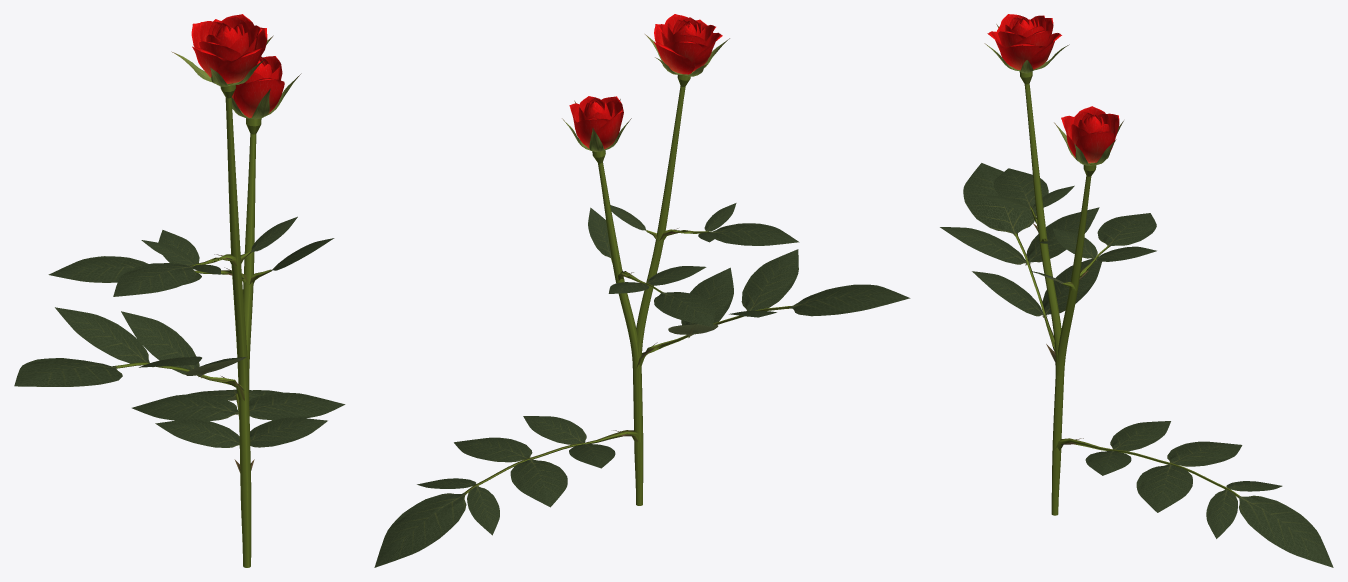
File: Rose.obj
3 renders of one model, left to right at view 1: azimuth 30°, elevation 25°; view 2: azimuth 150°, elevation 25°; view 3: azimuth 270°, elevation 25°, orthographic. The views are drawn at different scales.
Visible parts, largest first — view 1: rose; view 2: rose; view 3: rose.
Part boxes in pixels (box(x1,y1,x2,y2)): rose: box(14, 14, 345, 567); rose: box(374, 14, 910, 567); rose: box(940, 14, 1333, 567).
Size of the model in its own units: 0.8438 by 1.03 by 0.7643.
Materials: 1 (1 with a texture image).
